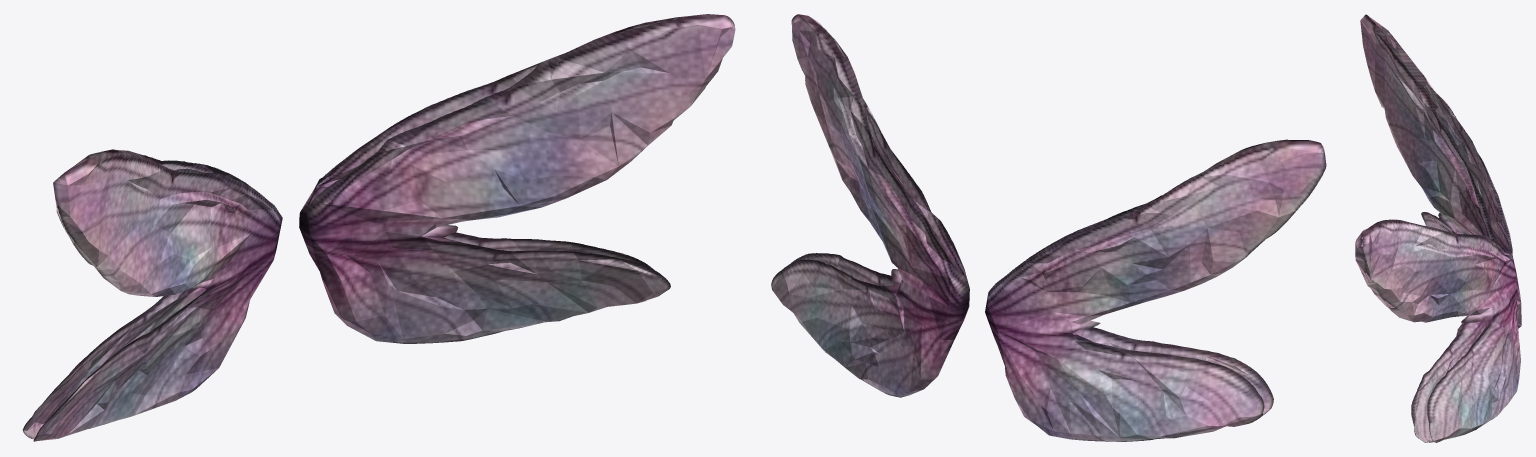
File: dragonfly-lite.glb
The picture shows the model from 3 angles, left to right: view 1: azimuth 30°, elevation 25°; view 2: azimuth 150°, elevation 25°; view 3: azimuth 270°, elevation 25°; orthographic projection. The views are drawn at different scales.
Visible parts, largest first — view 1: geometry_0; view 2: geometry_0; view 3: geometry_0.
Boxes of the visible parts, x1,y1,x2,y2 form: geometry_0: [22, 14, 735, 441]; geometry_0: [771, 14, 1326, 441]; geometry_0: [1355, 14, 1521, 442].
Bounding box in the file's own units: 0.9911 × 0.4971 × 0.3064.
1 material, 1 textured.
